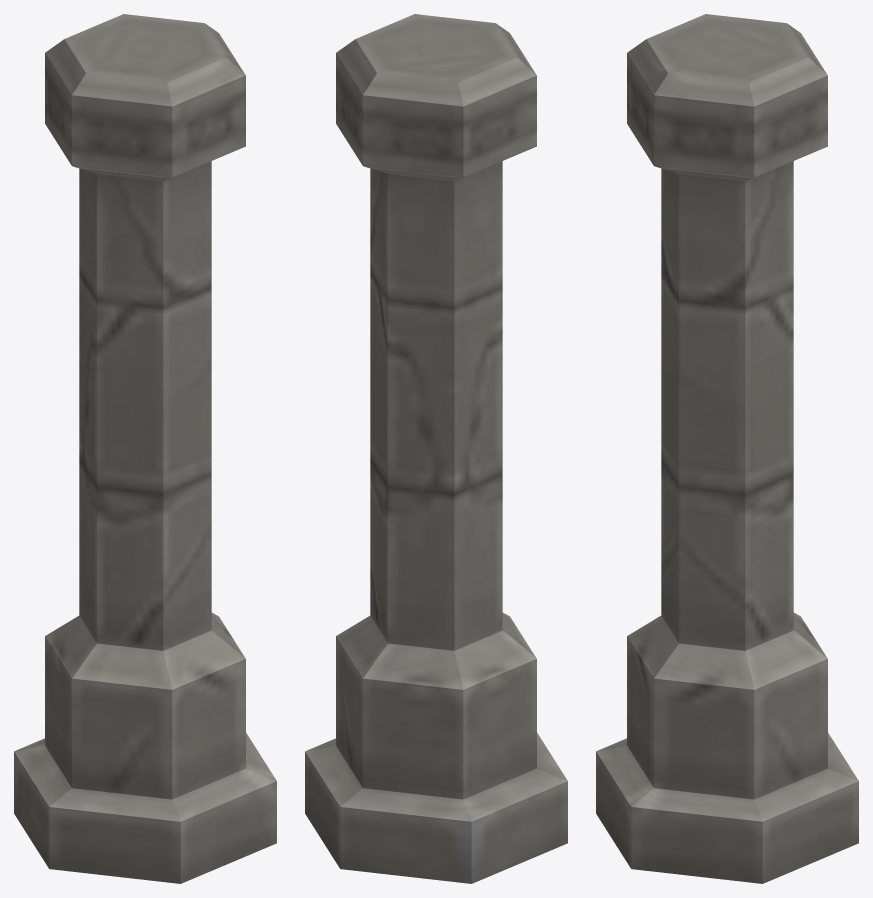
The model's file is all_mine_prop_17.FBX.
The picture shows the model from 3 angles, left to right: view 1: azimuth 30°, elevation 25°; view 2: azimuth 150°, elevation 25°; view 3: azimuth 270°, elevation 25°; orthographic projection.
Visible parts, largest first — view 1: Object514; view 2: Object514; view 3: Object514.
Part boxes in pixels (box(x1,y1,x2,y2)): Object514: box(14, 14, 276, 883); Object514: box(305, 14, 567, 883); Object514: box(596, 14, 858, 883).
Bounding box in the file's own units: 27.54 × 90.15 × 27.54.
